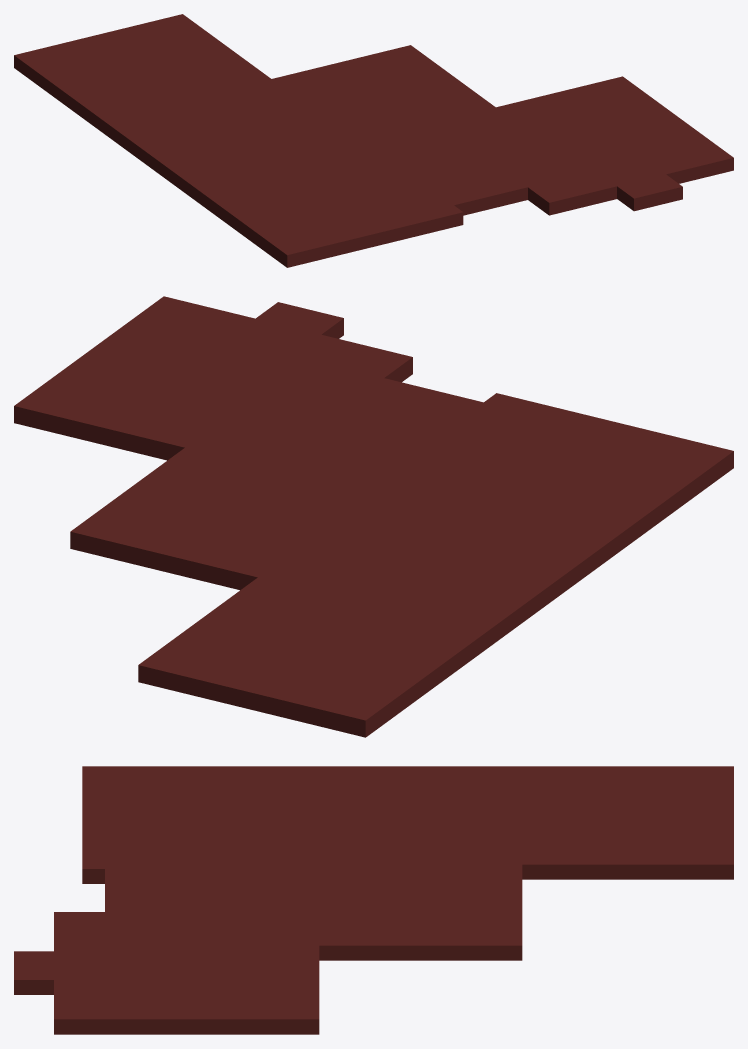
Rendered from Floor_Part2.fbx.
The picture shows the model from 3 angles, top to bottom: view 1: azimuth 30°, elevation 25°; view 2: azimuth 150°, elevation 25°; view 3: azimuth 270°, elevation 25°; orthographic projection. The views are drawn at different scales.
Visible parts, largest first — view 1: Floor_Part2; view 2: Floor_Part2; view 3: Floor_Part2.
Part boxes in pixels (x1,y1,x2,y2): Floor_Part2: (14,14,733,267); Floor_Part2: (14,296,733,737); Floor_Part2: (14,766,733,1034).
Size of the model in its own units: 1097 by 30.7 by 1319.
